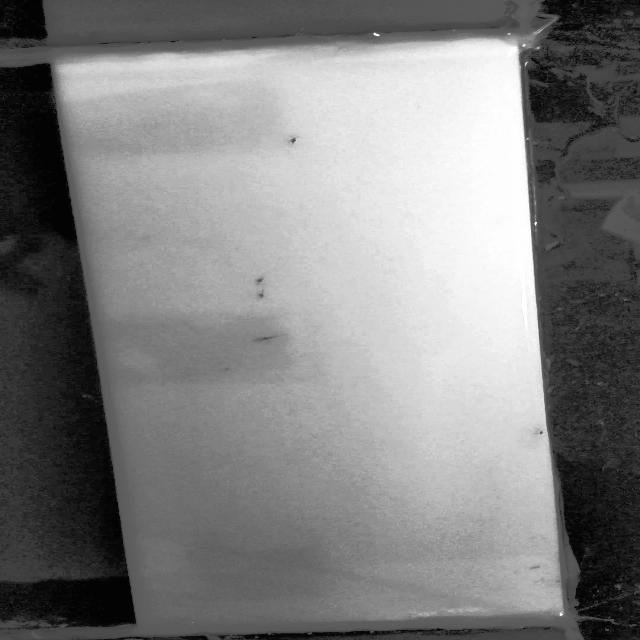shrimp: (262, 128, 312, 152), (238, 269, 283, 287), (243, 291, 277, 310), (246, 334, 288, 346)
